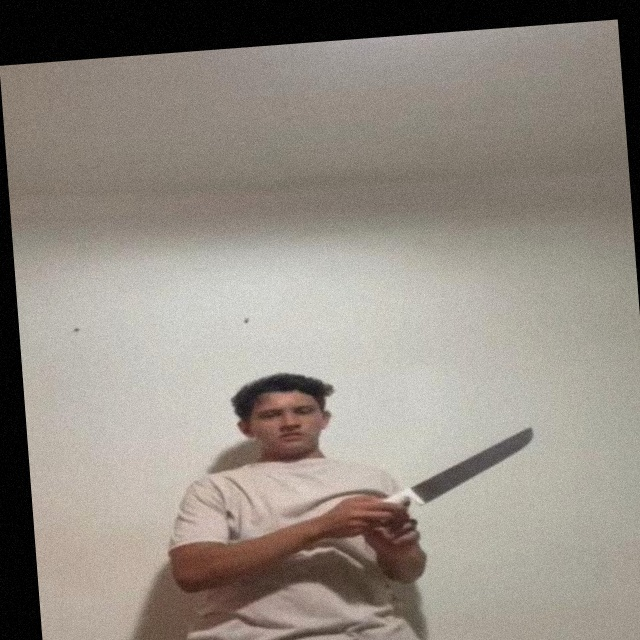Sharp-Object: (418, 424, 540, 495)
